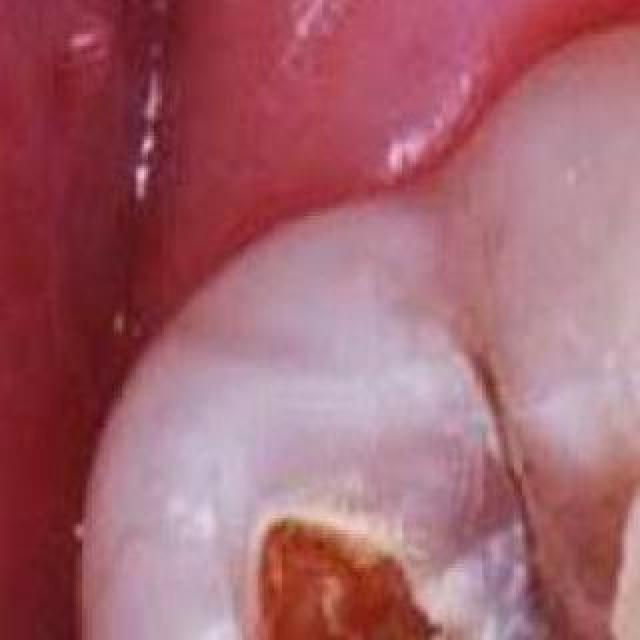cavities: (156, 248, 640, 640)
